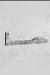D36: (5, 1, 46, 74)
